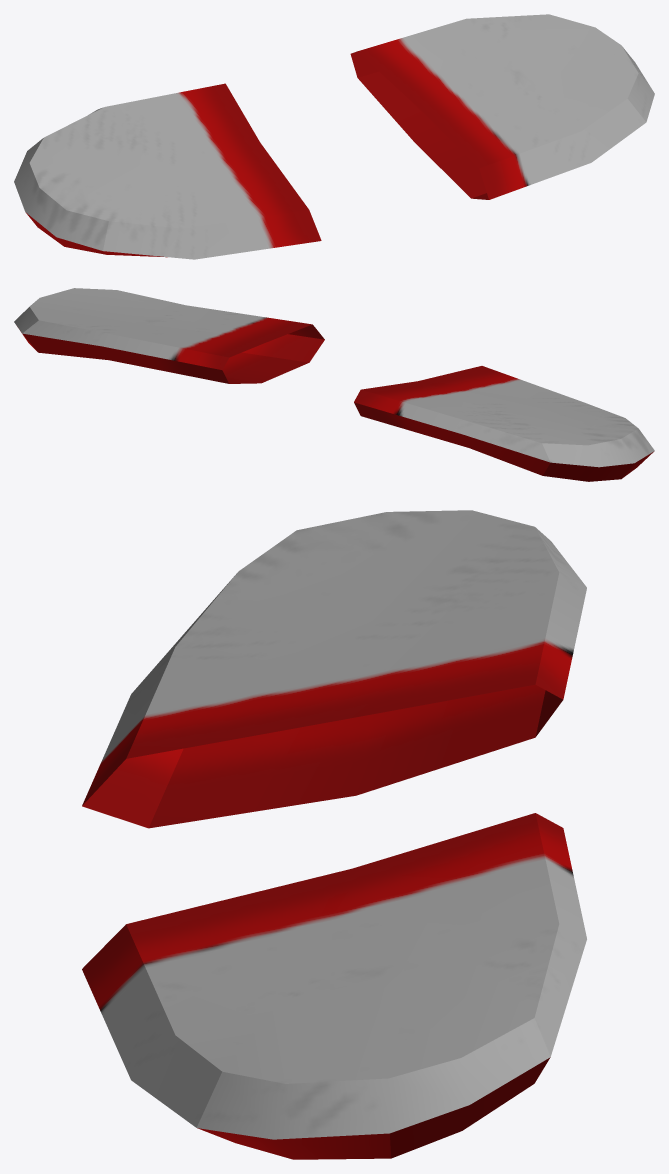
Rendered from TailWing1.FBX.
The picture shows the model from 3 angles, top to bottom: view 1: azimuth 30°, elevation 25°; view 2: azimuth 150°, elevation 25°; view 3: azimuth 270°, elevation 25°; orthographic projection. The views are drawn at different scales.
Visible parts, largest first — view 1: TailWing001; view 2: TailWing001; view 3: TailWing001.
Part boxes in pixels (left/top/right/bottom): TailWing001: left=14, top=14, right=654, bottom=259; TailWing001: left=14, top=288, right=654, bottom=481; TailWing001: left=82, top=510, right=586, bottom=1159.
Size of the model in its own units: 31.76 by 4 by 11.42.
Materials: 1 (1 with a texture image).
